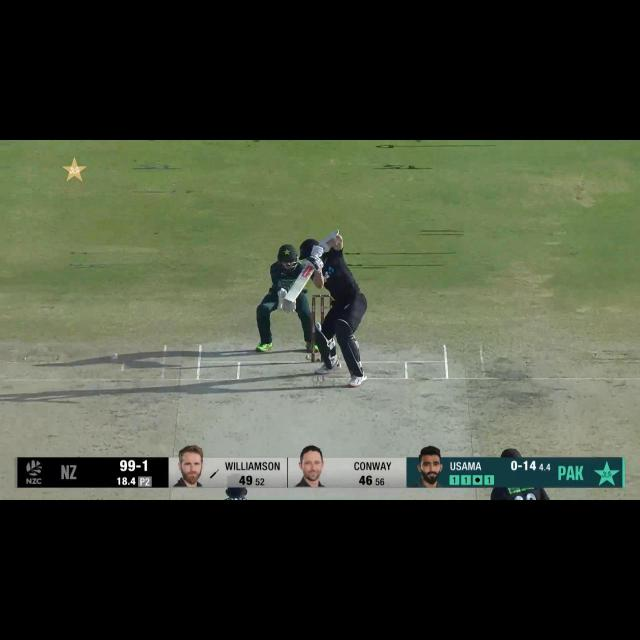bat: (284, 267, 315, 305)
toe: (281, 292, 298, 306)
